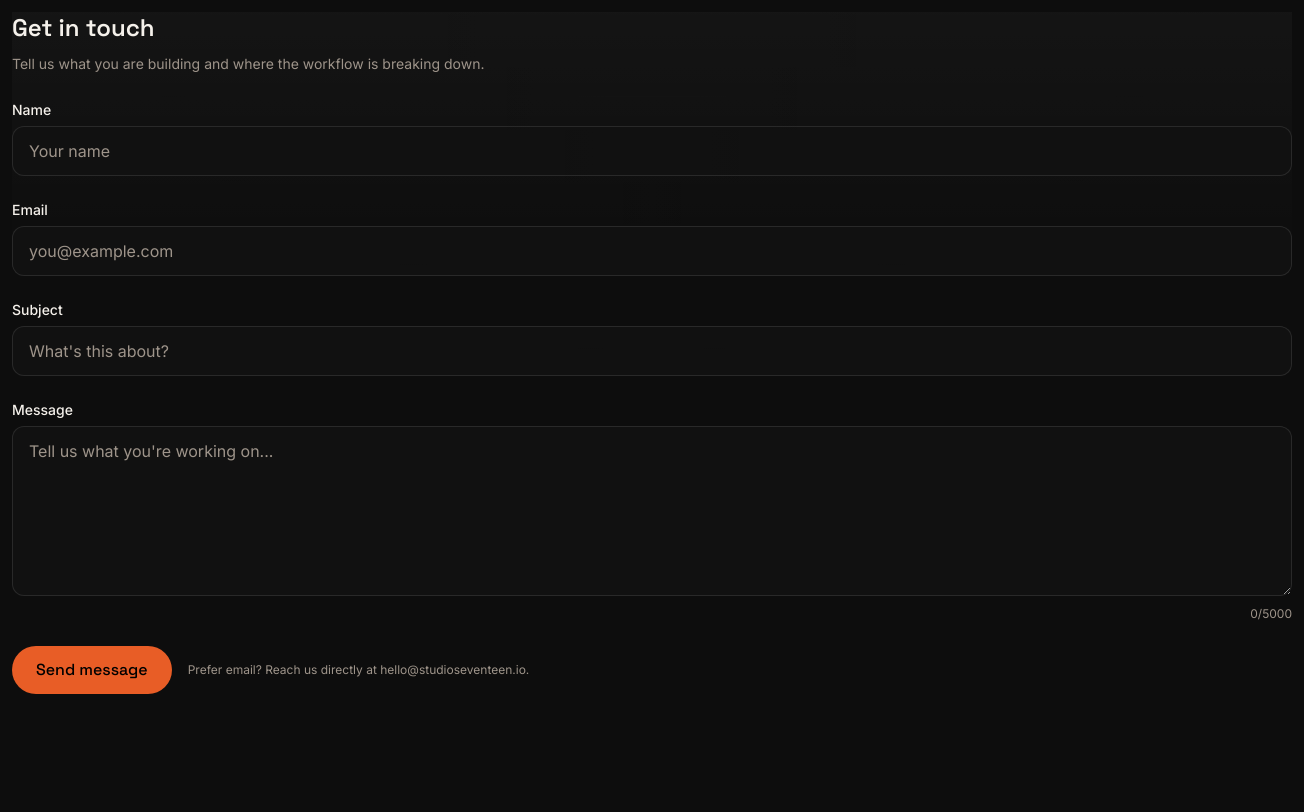
Test: ContactForm — submission › shows rate limit message on 429
The image size is (1304, 812).
Type "Test User" into the field labelled "Name" at (652, 151), box [12, 126, 1292, 176]
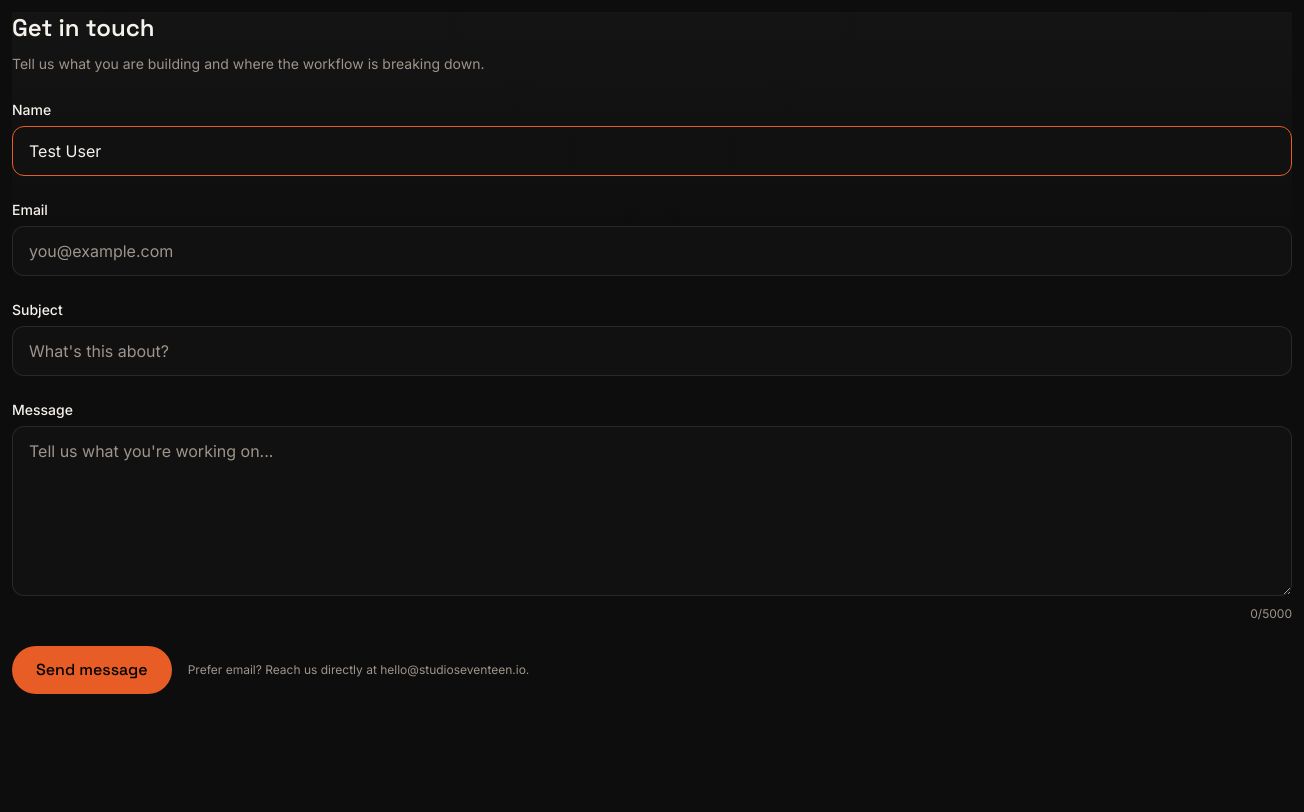
Type "test@example.com" into the field labelled "Email" at (652, 251), box [12, 226, 1292, 276]
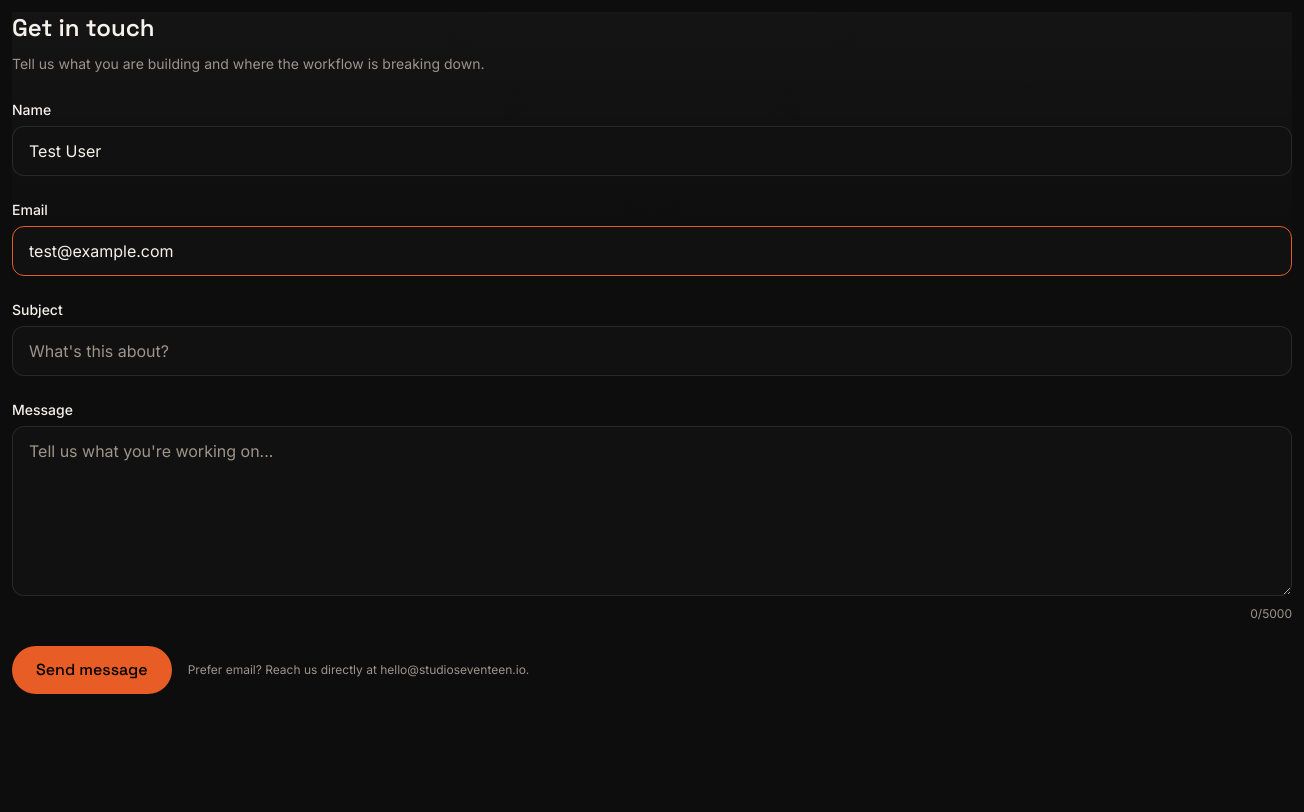
Type "Test Subject" into the field labelled "Subject" at (652, 351), box [12, 326, 1292, 376]
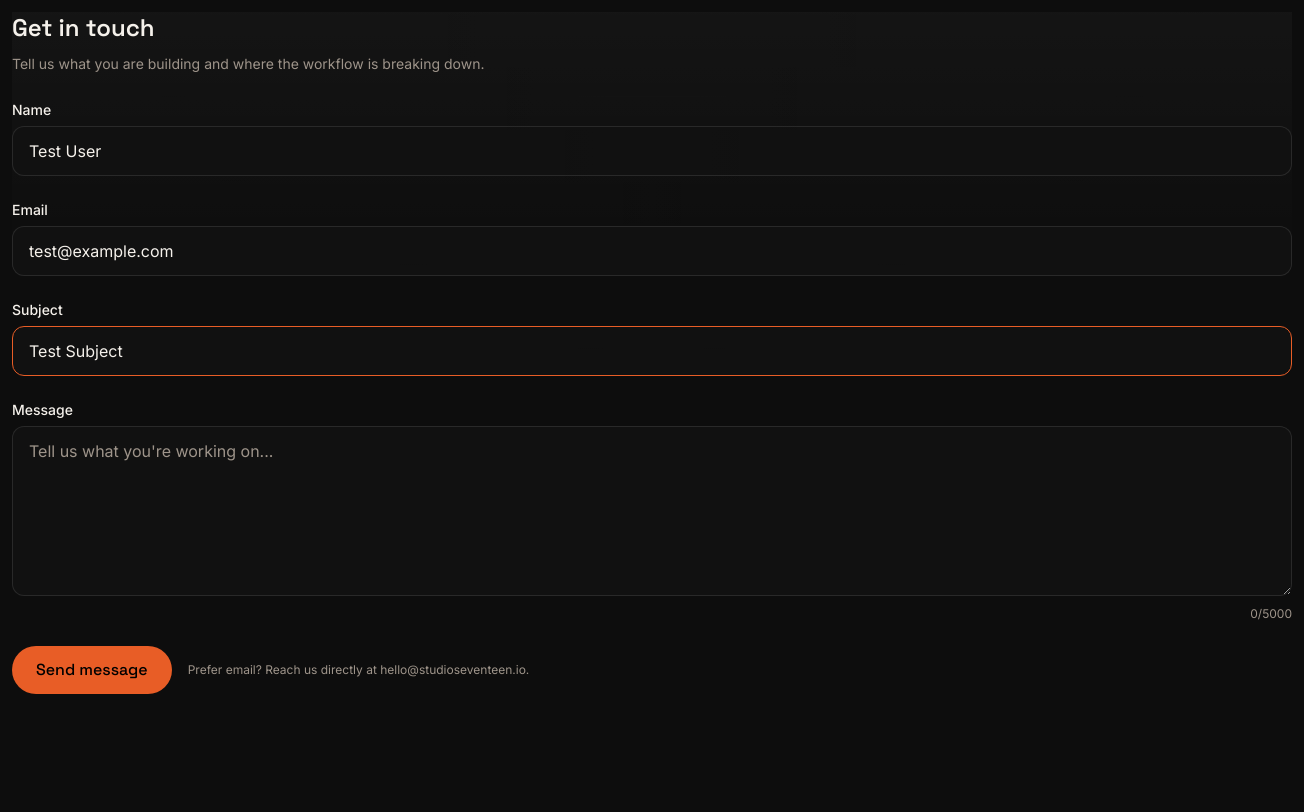
Type "This is a test message." into the text box labelled "Message" at (652, 511), box [12, 426, 1292, 596]
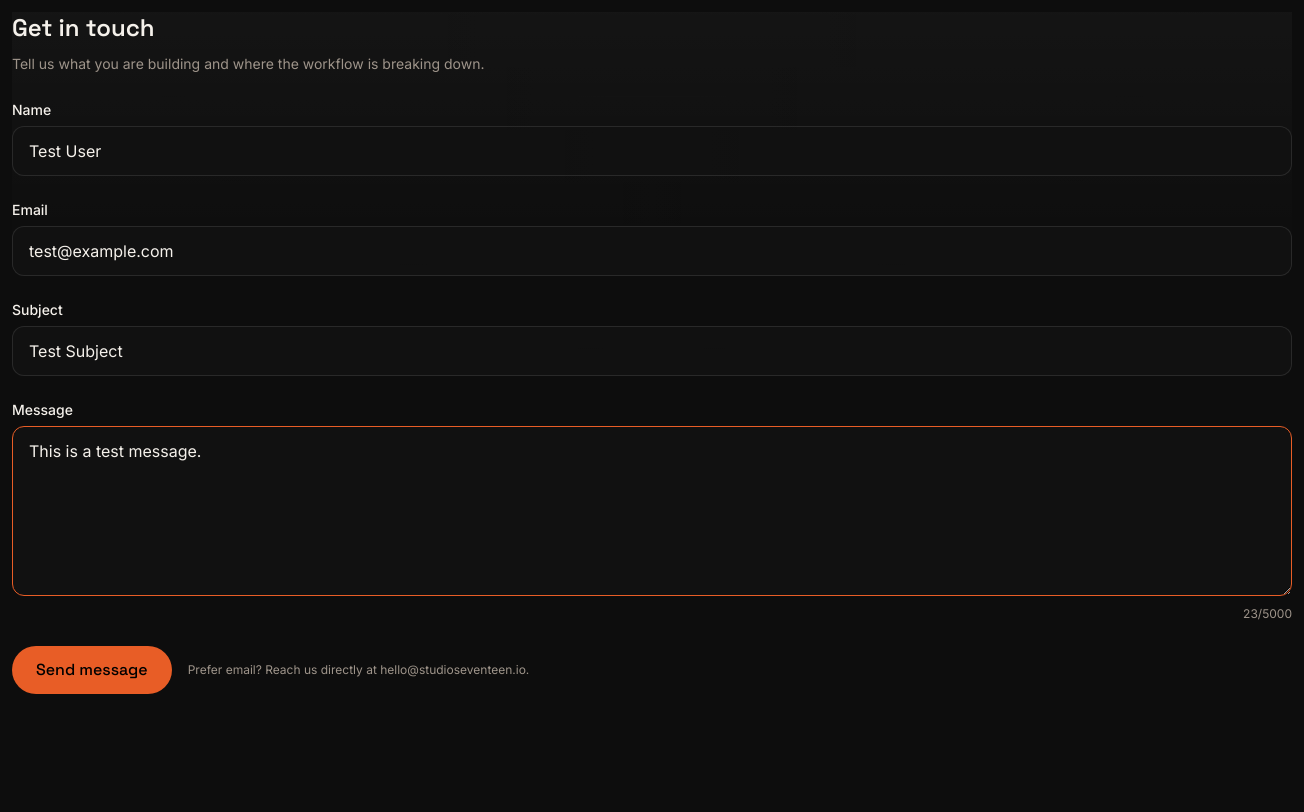
Click the button "Send message" at (92, 670), box [12, 646, 172, 694]
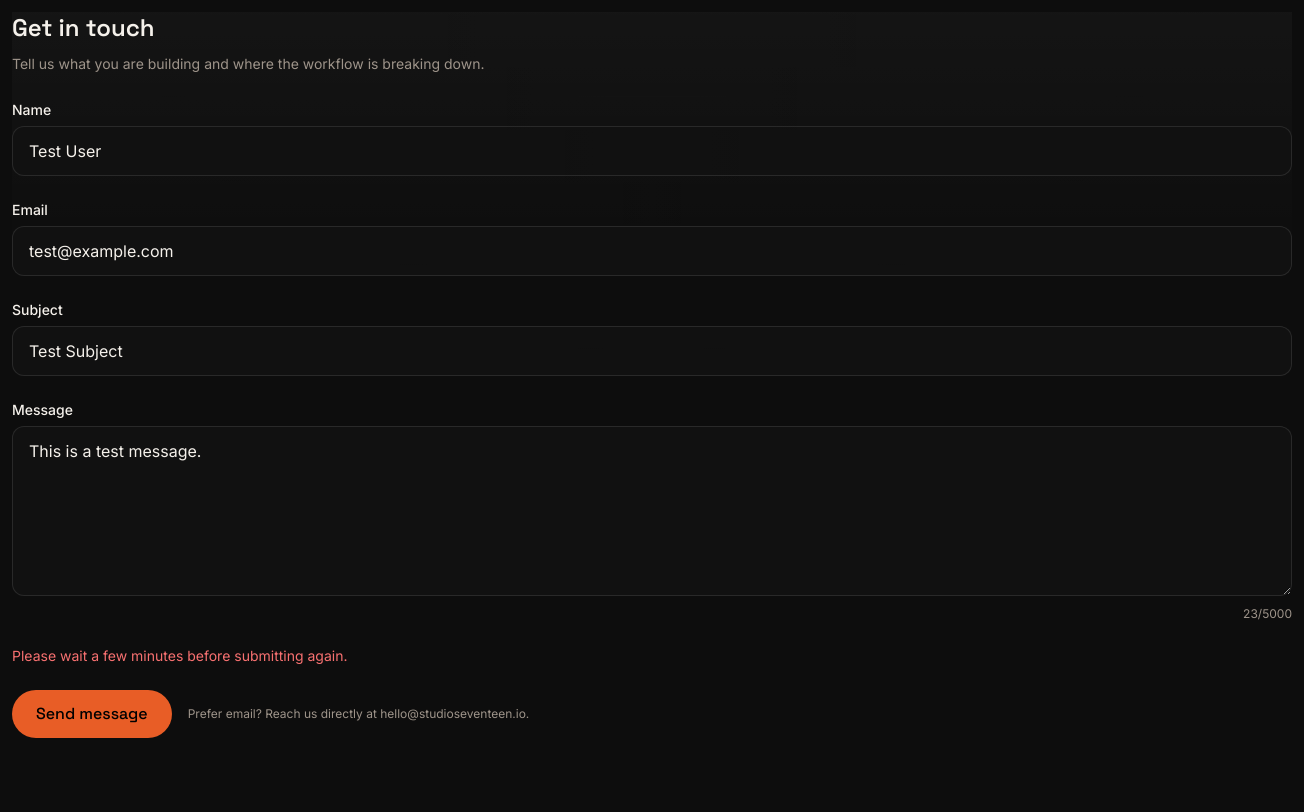
Now the text "Please wait a few minutes before submitting again." is shown, box [12, 647, 348, 664]
